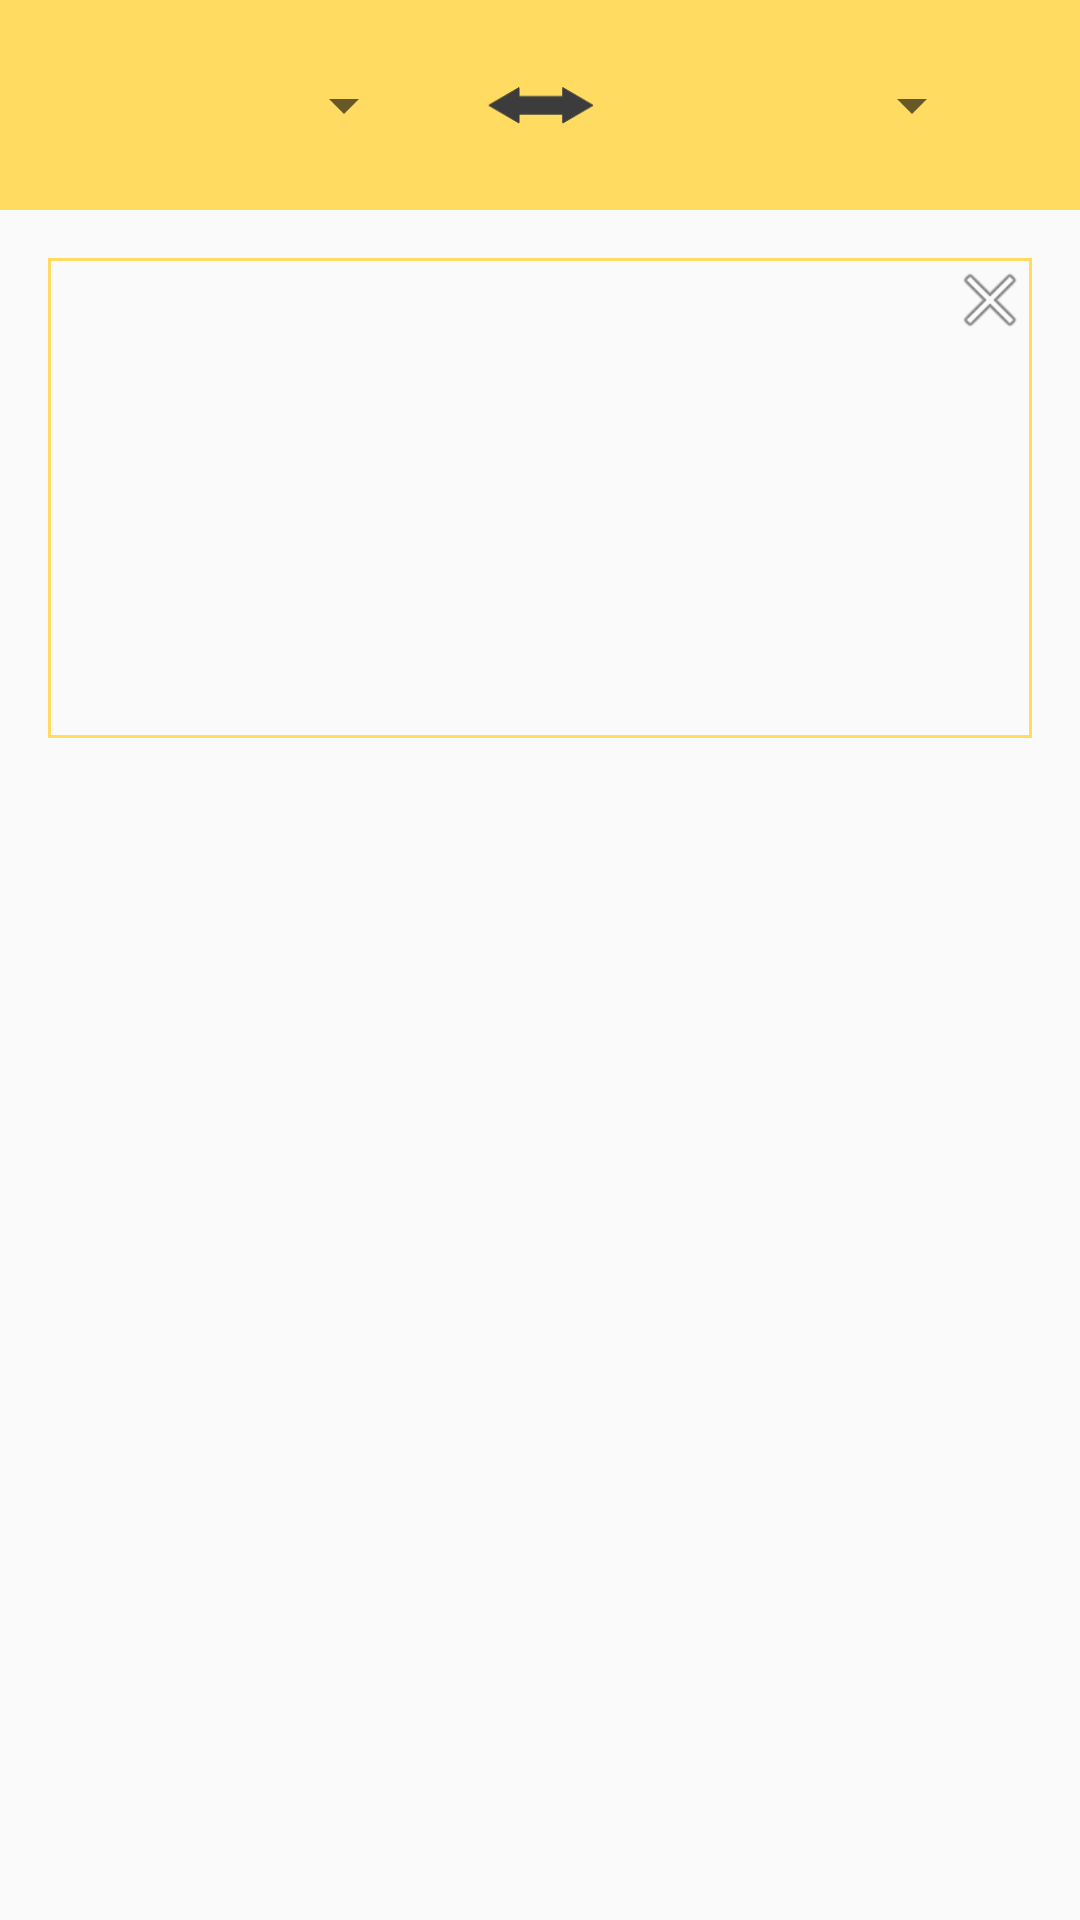

Named icons in this screenshot (1080px×1920px) and their bounding boxes, (x1, y1, x2, y2):
close clear cancel: (964, 274, 1016, 326)
translaterevers: (488, 87, 593, 124)
